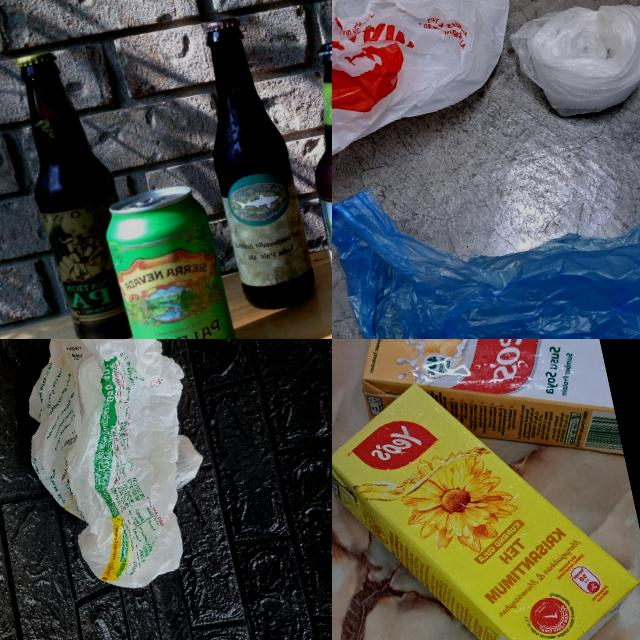aba de lata: (134, 194, 164, 208)
caixinha: (332, 347, 640, 640), (343, 339, 623, 505)
garrafa de vidro: (7, 41, 153, 339), (184, 12, 320, 316), (283, 30, 332, 339)
lata: (96, 178, 244, 339)
sacola plástica: (332, 124, 640, 339), (2, 339, 229, 606), (332, 0, 541, 213), (505, 0, 640, 129)
